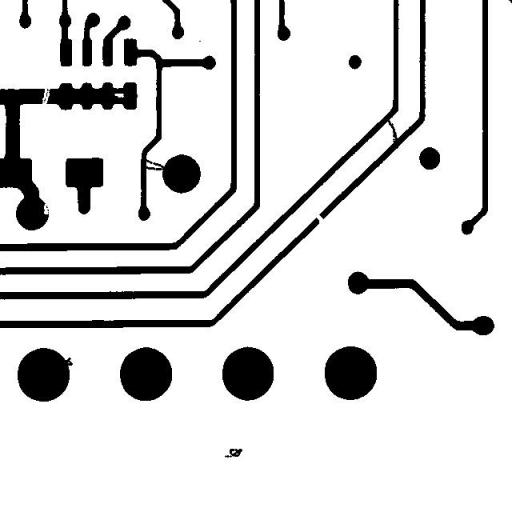copper: (216, 441, 250, 465)
mousebite: (36, 195, 58, 222)
open: (34, 76, 58, 114), (308, 206, 330, 232)
pin-hole: (106, 86, 132, 104)
short: (378, 109, 406, 156), (135, 150, 174, 178)
spur: (54, 350, 80, 372)
